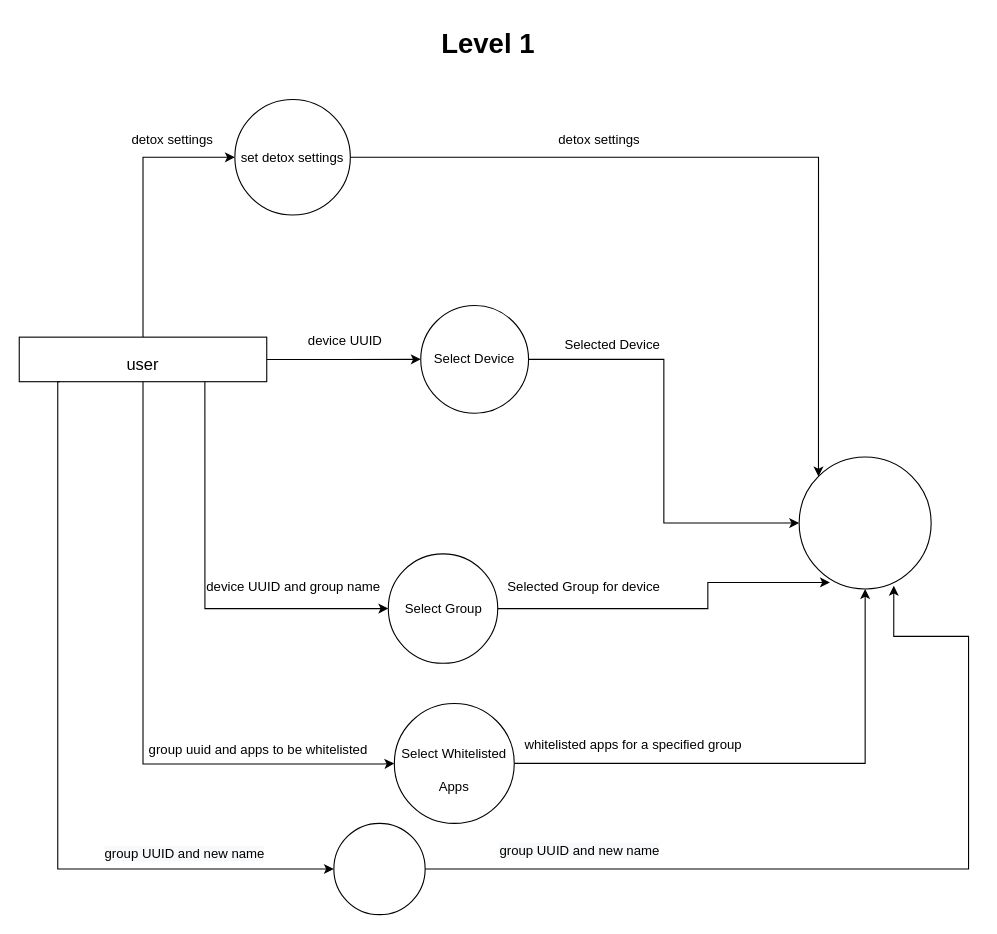
Some shapes in this 997 by 934 pixel diagram are drawn without their labels. The shapes that lost their labels are listed below. From the top down, each one's box as (x1, y1, x2, y2) in pixels, then its label:
(798, 456, 931, 589): lock
(333, 822, 425, 915): rename group
